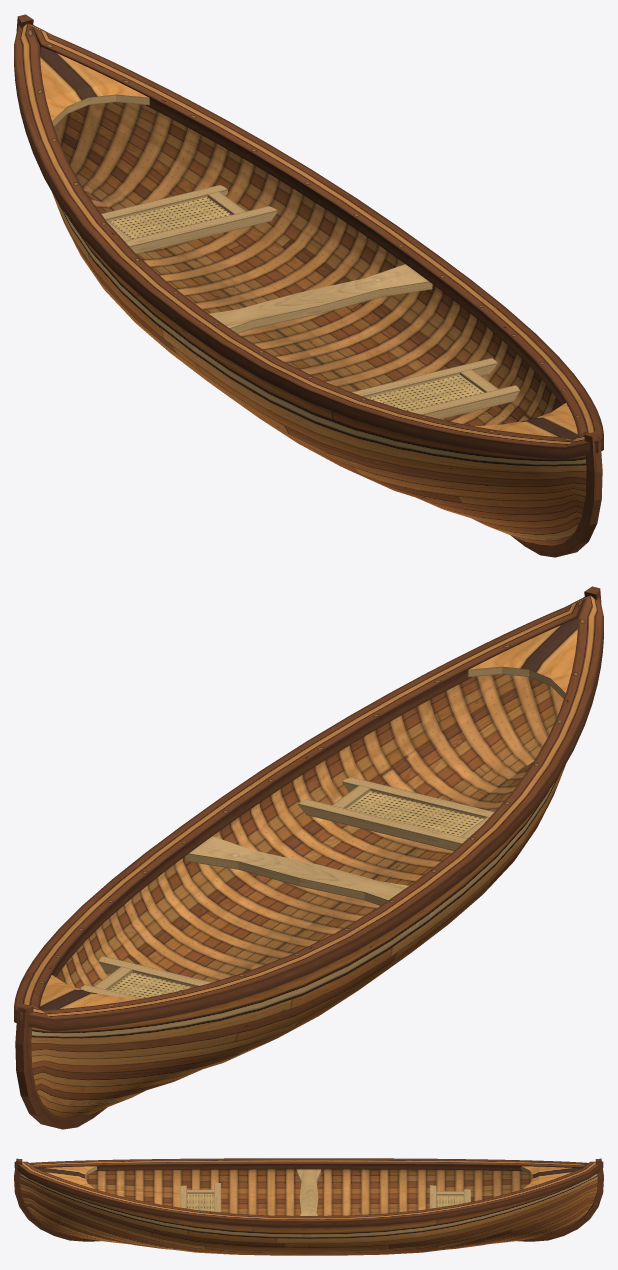
File: CedarCanoe.glb
3 views of the same model, one above another, from view 1: azimuth 30°, elevation 25°; view 2: azimuth 150°, elevation 25°; view 3: azimuth 270°, elevation 25° (orthographic). The views are drawn at different scales.
Parts seen in each view (by area): view 1: CedarCanoe; view 2: CedarCanoe; view 3: CedarCanoe.
Part boxes in pixels (x1,y1,x2,y2): CedarCanoe: [14, 14, 603, 557]; CedarCanoe: [14, 586, 603, 1129]; CedarCanoe: [14, 1158, 603, 1255].
Bounding box in the file's own units: 3.18 × 1.97 × 12.52.
Materials: 1 (1 with a texture image).
